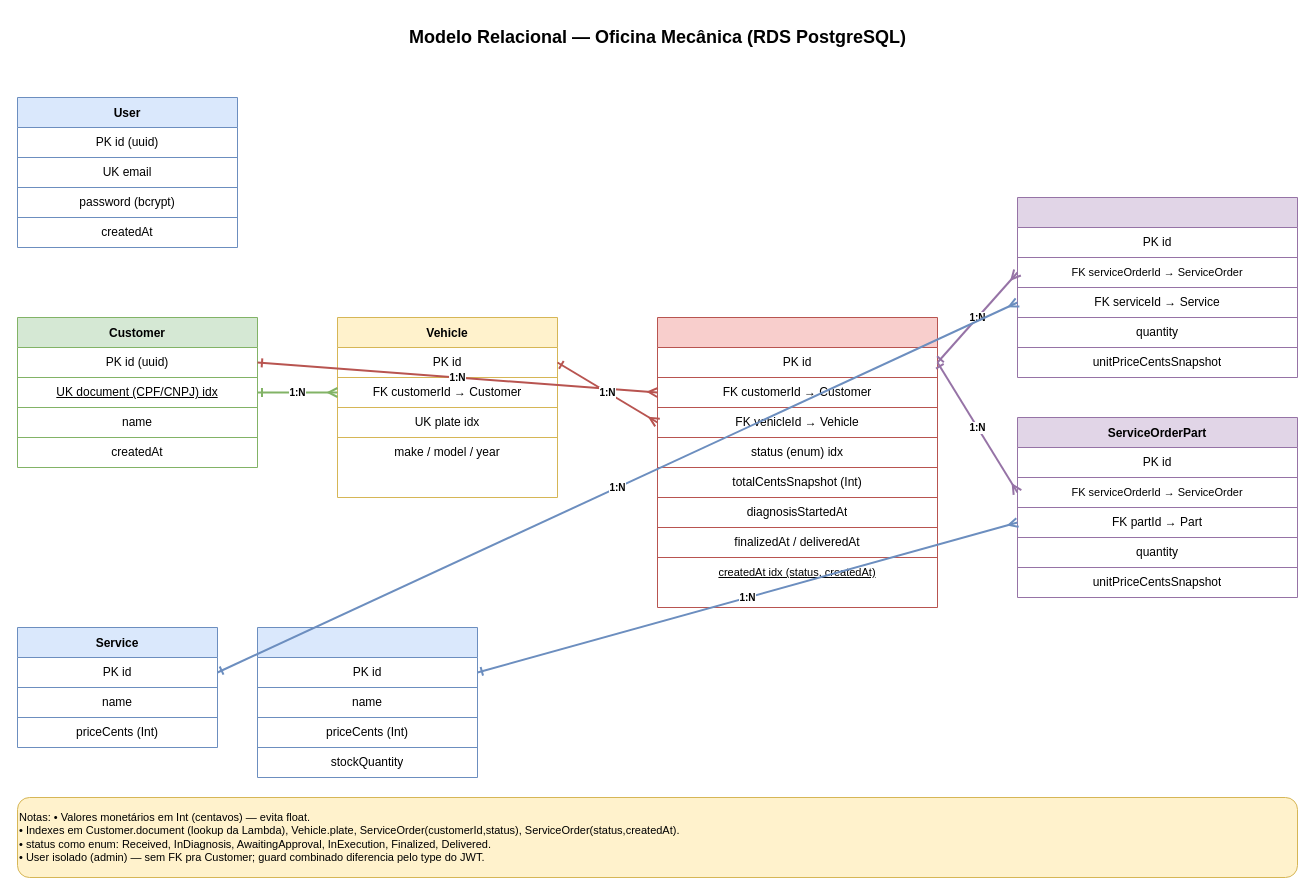
This 1315x895 diagram has some shape labels left out. Each missing label, with the box of its shape:
Part: (256, 626, 478, 778)
ServiceOrder: (656, 316, 938, 608)
ServiceOrderService: (1016, 196, 1298, 378)
